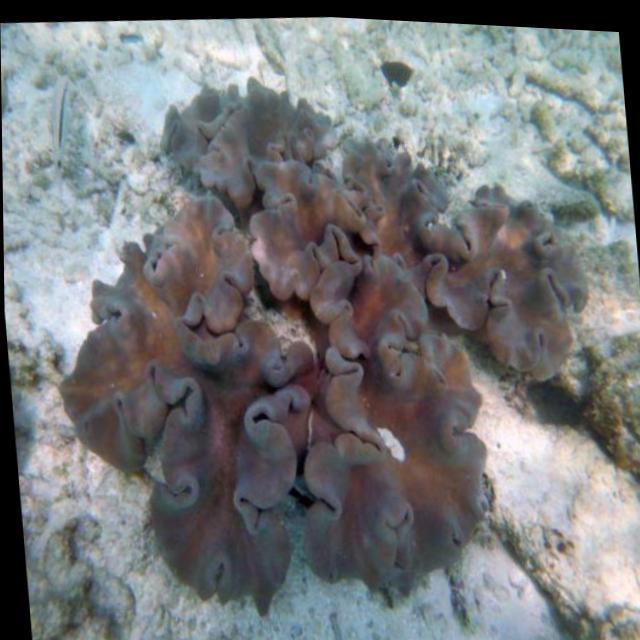Dead Coral: (66, 39, 631, 640)
